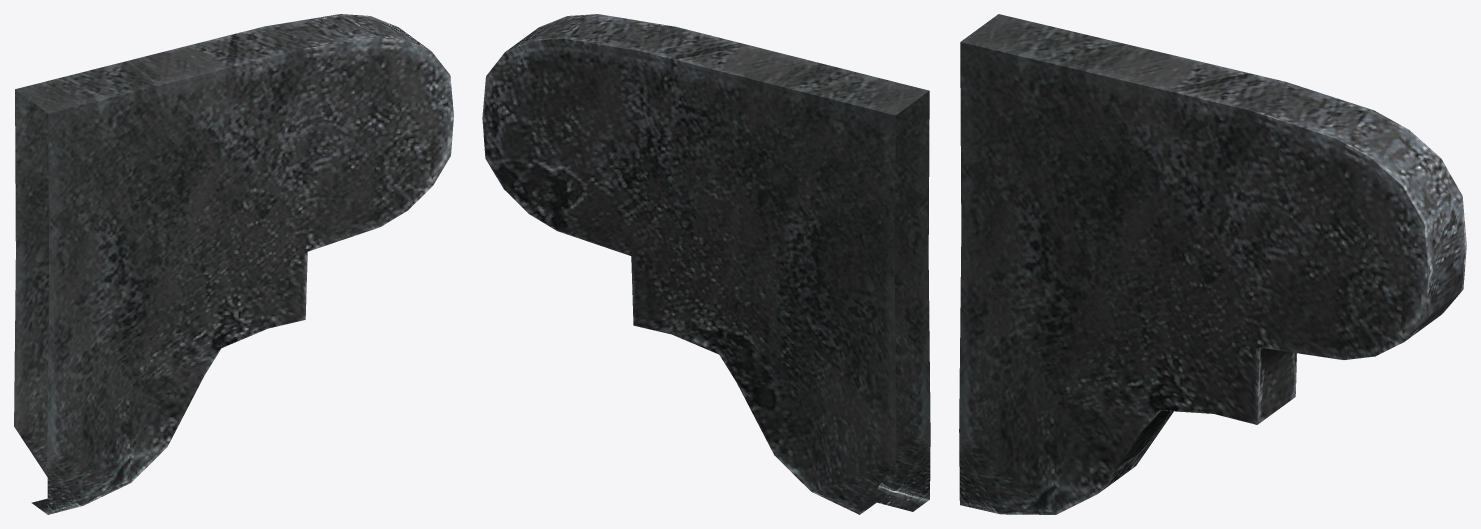
The model's file is Stone Support Half.FBX.
3 renders of one model, left to right at view 1: azimuth 30°, elevation 25°; view 2: azimuth 150°, elevation 25°; view 3: azimuth 330°, elevation 25°, orthographic. The views are drawn at different scales.
Parts seen in each view (by area): view 1: Stone Support Half; view 2: Stone Support Half; view 3: Stone Support Half.
Boxes of the visible parts, bbox=[...] form: Stone Support Half: bbox=[14, 14, 453, 514]; Stone Support Half: bbox=[482, 14, 930, 514]; Stone Support Half: bbox=[959, 14, 1466, 514].
Size of the model in its own units: 95.92 by 13.6 by 90.88.
Materials: 1 (1 with a texture image).
